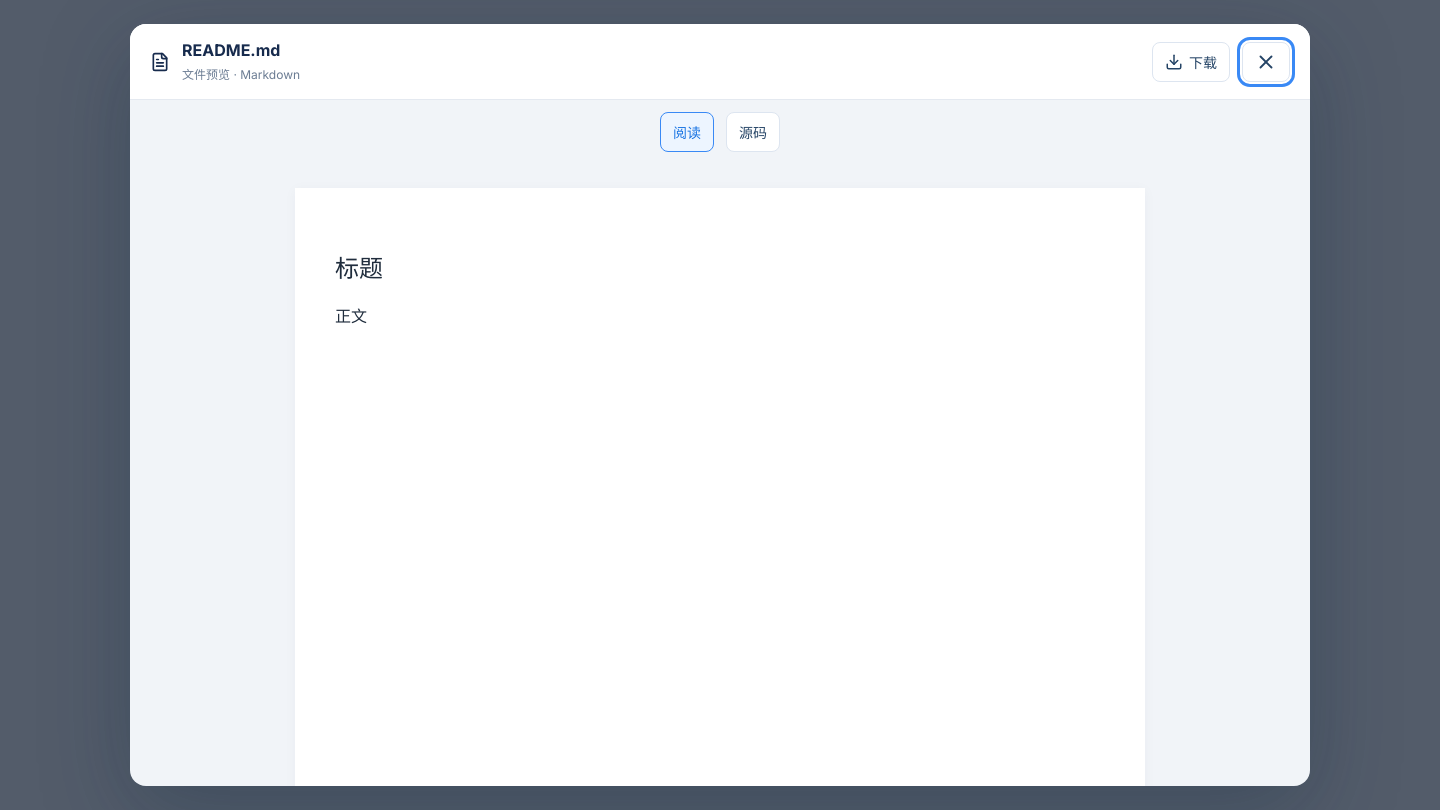
Scenario: file preview lifecycle › renders markdown and toggles source
Check: the heading "标题" is shown, box [335,254,383,283]
Click the button "源码": (753,132) [726,112,780,152]
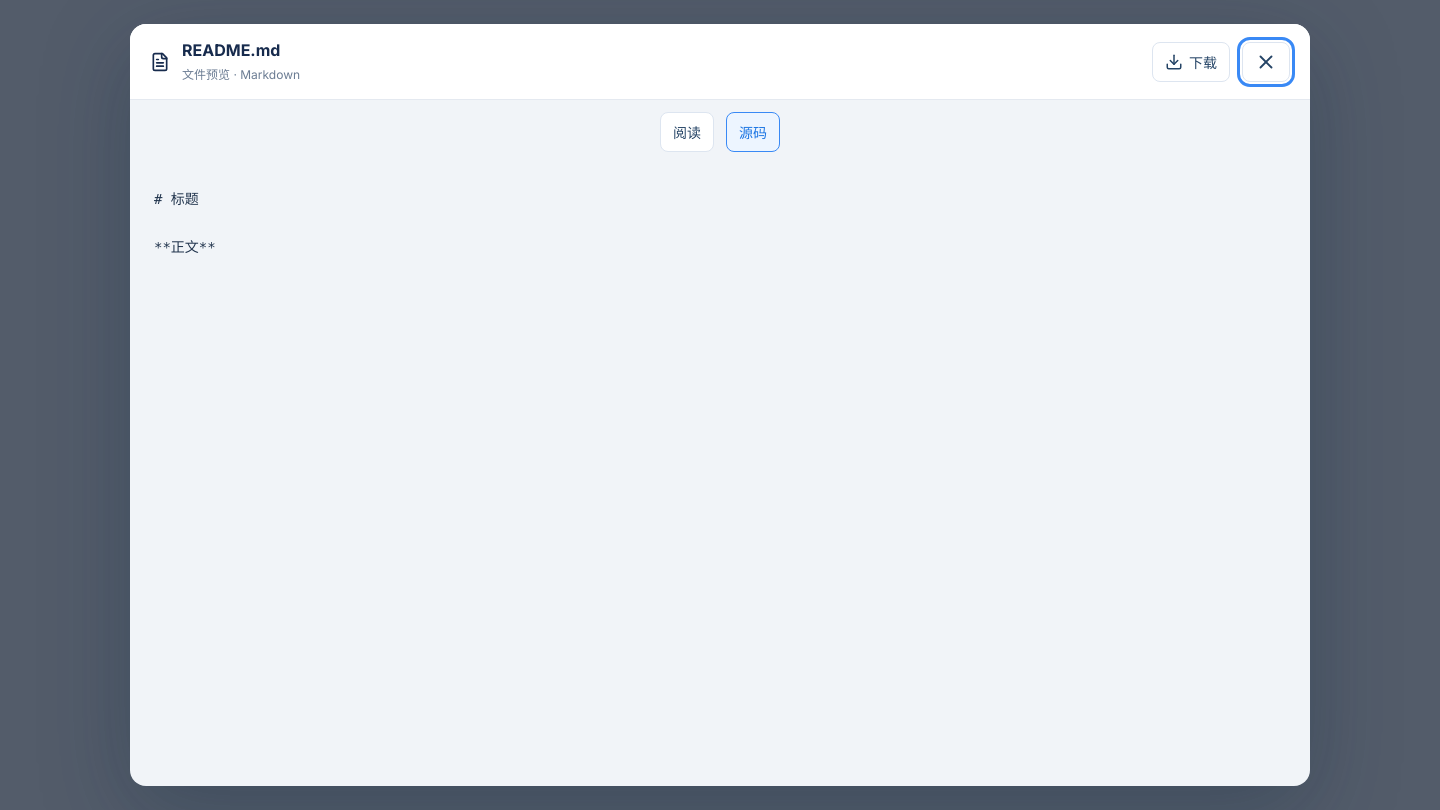
Check: the text "# 标题 **正文**" is shown, box [154,191,216,255]
